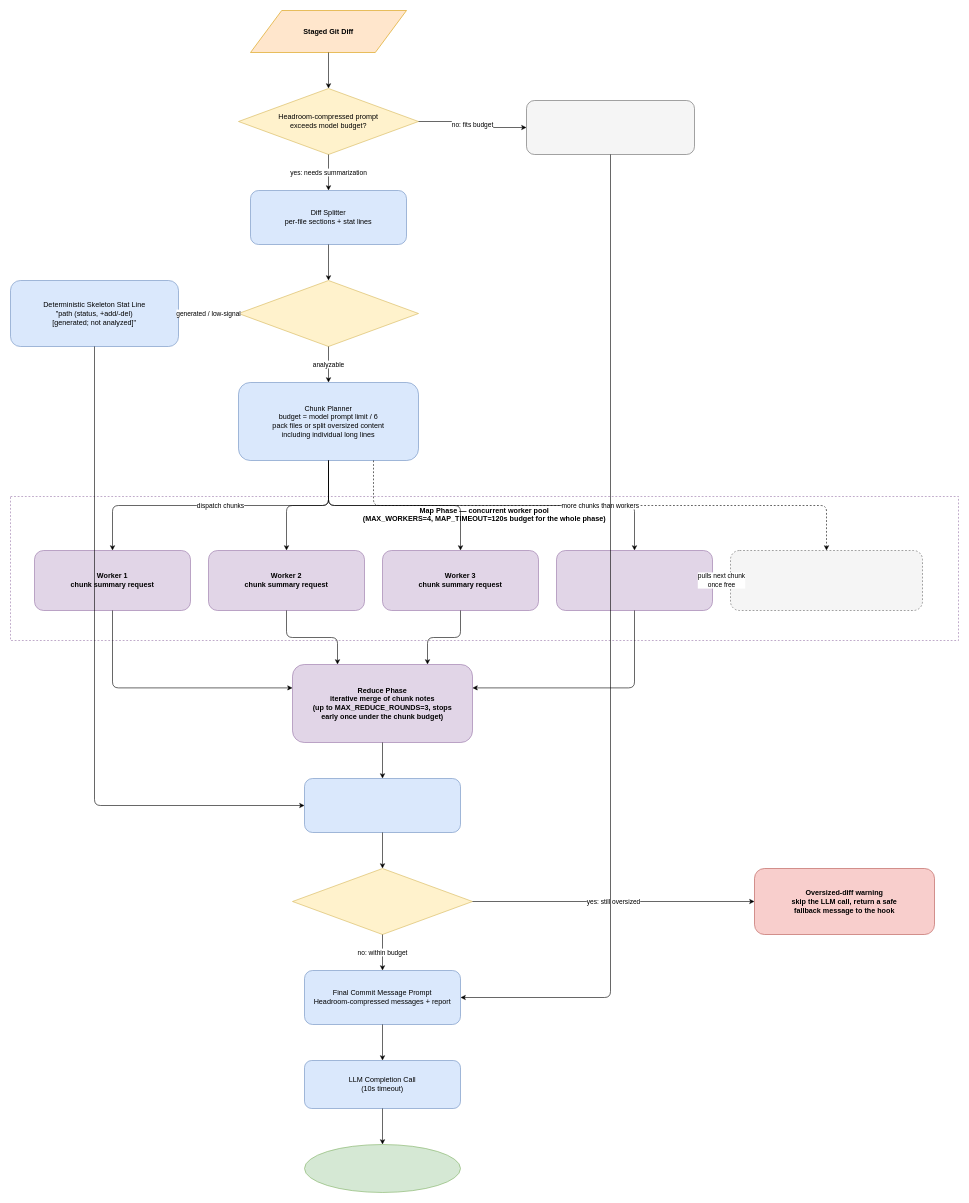
The diagram is 969 pixels wide and 1203 high, and some of its shapes have lost their labels. The shapes that lost their labels are listed below. From the top down, each one's box as (x1, y1, x2, y2) in pixels, then its label:
(526, 100, 694, 154): Bypass summarization send original diff to the prompt
(238, 280, 418, 346): Low-signal file? (lockfile / vendor dir / generated)
(556, 550, 712, 610): Worker 4 chunk summary request
(730, 550, 922, 610): Remaining chunks wait in queue for a free worker
(304, 778, 460, 832): Structured Change Report skeleton + reduced notes
(292, 868, 472, 934): Prompt still exceeds model budget after summarization?
(304, 1144, 460, 1192): Commit Message
